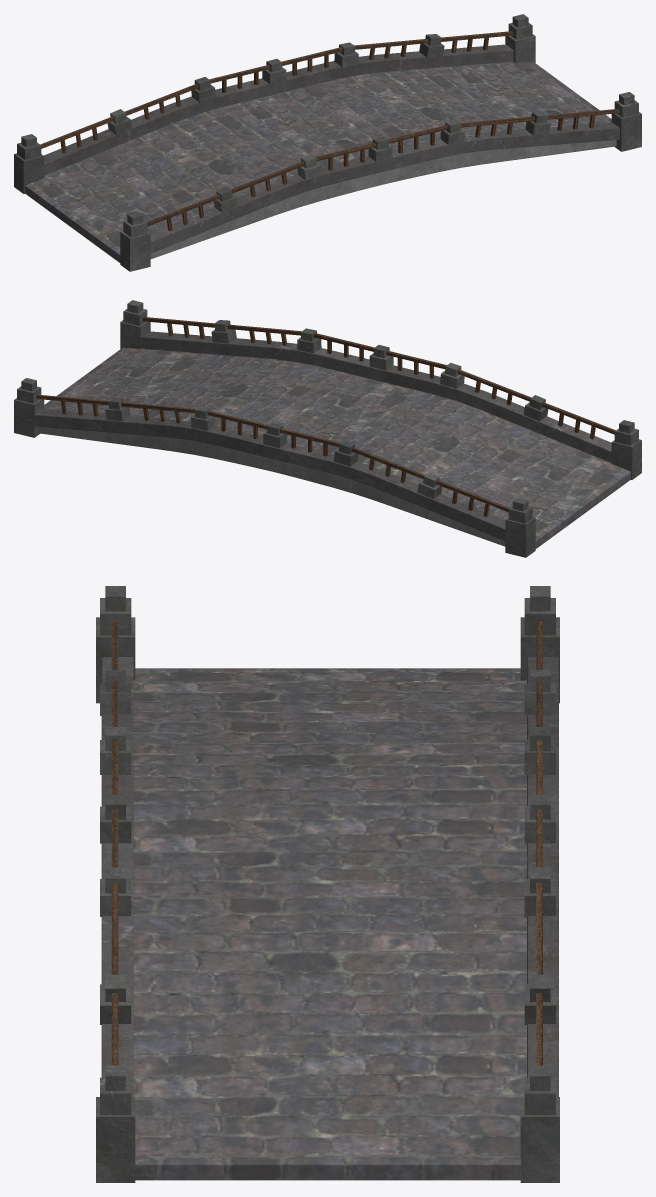
File: first_bridge.glb
3 views of the same model, one above another, from view 1: azimuth 30°, elevation 25°; view 2: azimuth 150°, elevation 25°; view 3: azimuth 270°, elevation 25° (orthographic). The views are drawn at different scales.
Visible parts, largest first — view 1: Cube.000; view 2: Cube.000; view 3: Cube.000.
Boxes of the visible parts, x1,y1,x2,y2 form: Cube.000: (14, 14, 641, 271); Cube.000: (14, 300, 641, 557); Cube.000: (96, 586, 559, 1182).
Size of the model in its own units: 13.9 by 1.72 by 5.45.
Materials: 1 (1 with a texture image).
